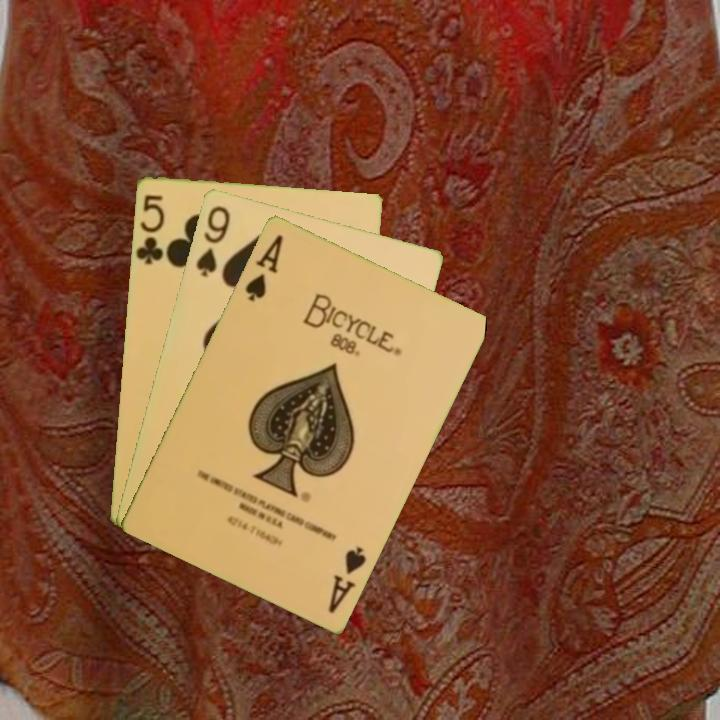5c: (132, 190, 167, 267)
9s: (192, 201, 233, 280)
As: (241, 230, 286, 304), (324, 542, 369, 616)
